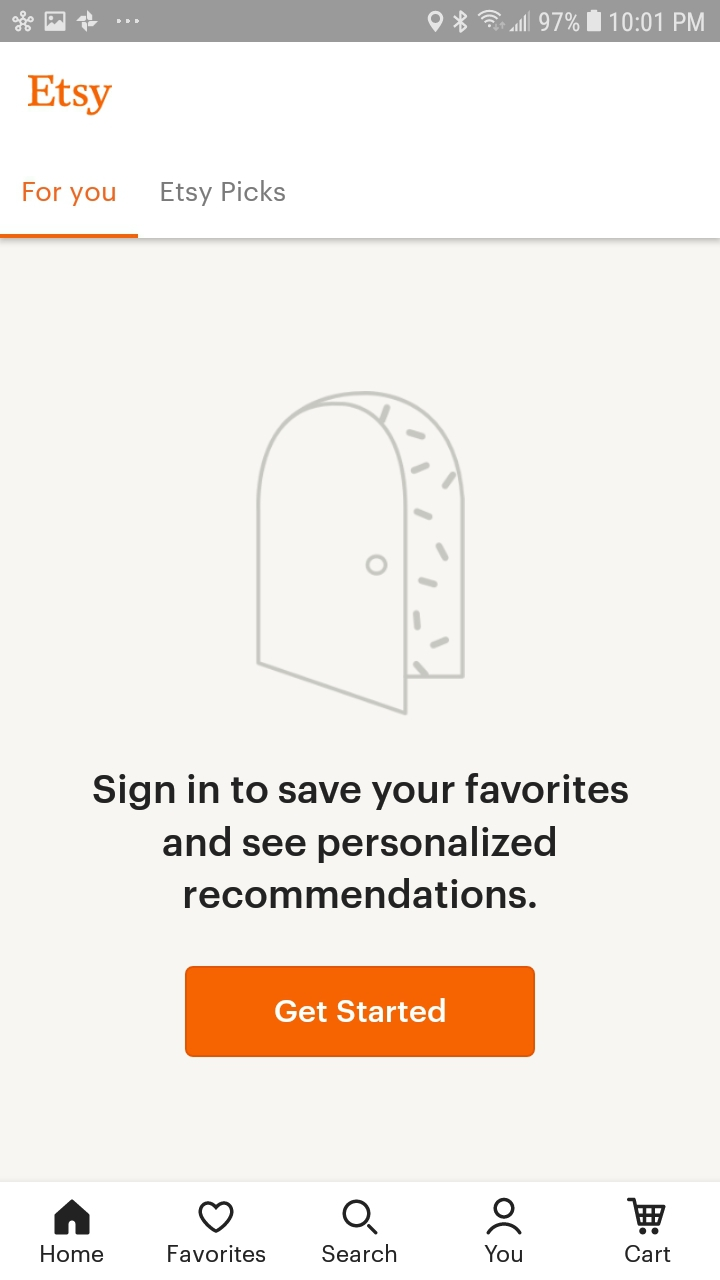Icon: (627, 1198, 666, 1235), (486, 1197, 523, 1235), (342, 1199, 378, 1235), (55, 1199, 91, 1235), (199, 1200, 235, 1233)
Image: (257, 390, 467, 717)
Text: (94, 773, 629, 909), (28, 75, 113, 117), (162, 180, 287, 207), (24, 182, 117, 208), (168, 1244, 266, 1263), (322, 1243, 397, 1262), (41, 1245, 104, 1263), (625, 1245, 670, 1262), (484, 1244, 523, 1263)
TextButton: (185, 966, 536, 1058)
UpperTaskBar: (1, 1, 720, 43)
